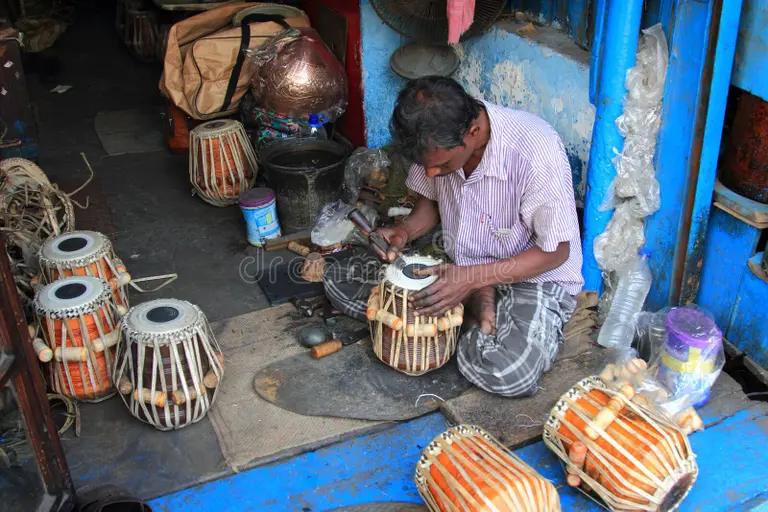tabla: (114, 300, 218, 427), (372, 254, 460, 374), (34, 277, 113, 407), (187, 120, 260, 209), (36, 229, 115, 282)
